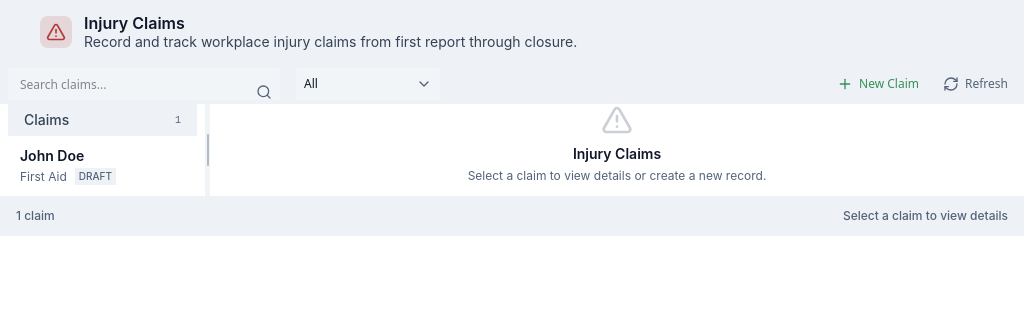
Test case: SafetyInjuryClaimsPage - Cancel Claim › shows Cancel button for a DRAFT claim
Step 1. Click the text "John Doe" → point(52, 156), box [20, 147, 84, 164]
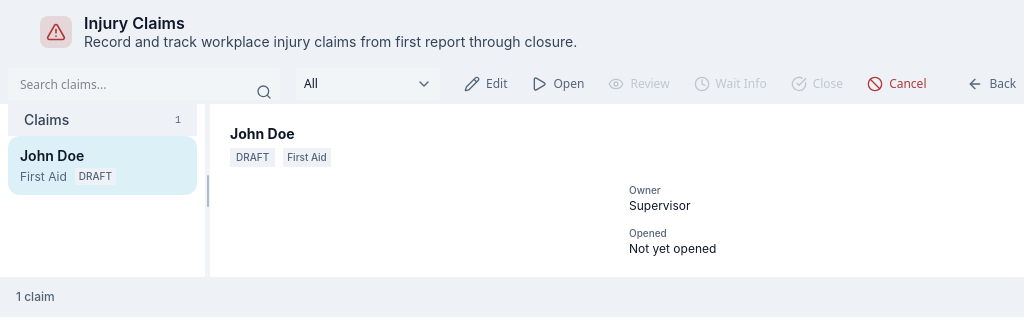
Expected: the text "Cancel" is shown, [889, 76, 926, 92]
